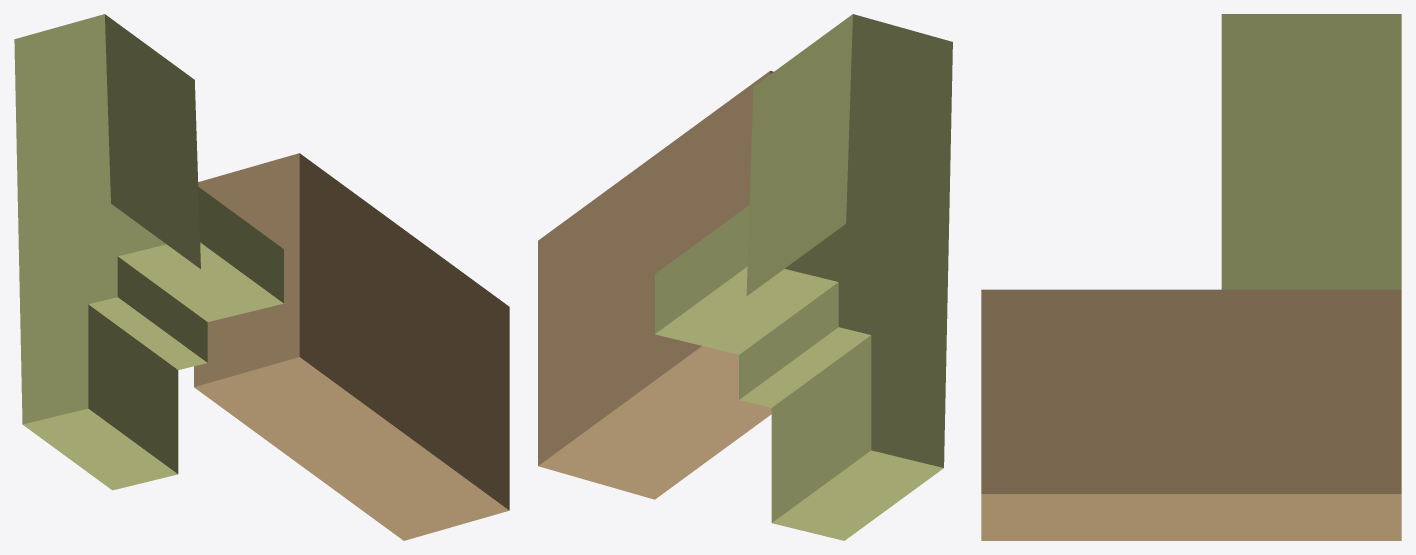
3 renders of one model, left to right at view 1: azimuth 30°, elevation 25°; view 2: azimuth 150°, elevation 25°; view 3: azimuth 270°, elevation 25°, orthographic. The views are drawn at different scales.
Visible parts, largest first — view 1: 0_0_1_1_3_2_2_0_1_3; view 2: 0_0_1_1_3_2_2_0_1_3; view 3: 0_0_1_1_3_2_2_0_1_3.
Boxes of the visible parts, bbox=[...] form: 0_0_1_1_3_2_2_0_1_3: bbox=[14, 14, 509, 540]; 0_0_1_1_3_2_2_0_1_3: bbox=[538, 14, 952, 540]; 0_0_1_1_3_2_2_0_1_3: bbox=[981, 14, 1401, 540].
Size of the model in its own units: 16.47 by 21.8 by 21.
